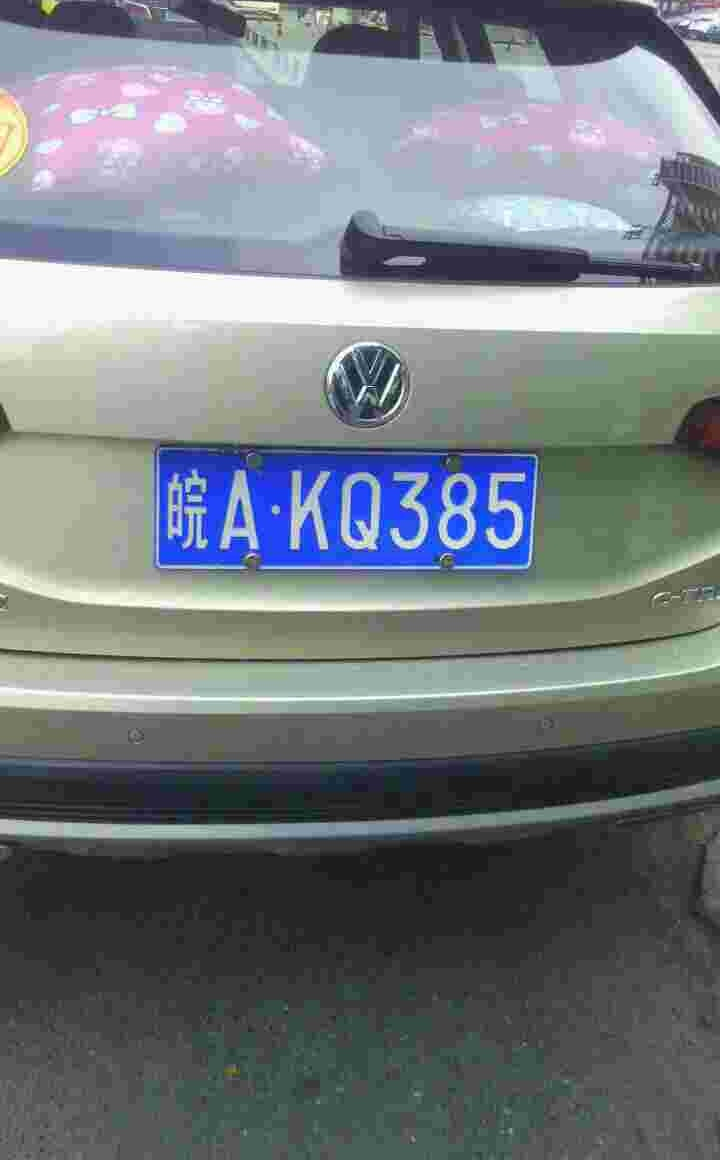car_blue: (151, 439, 548, 575)
